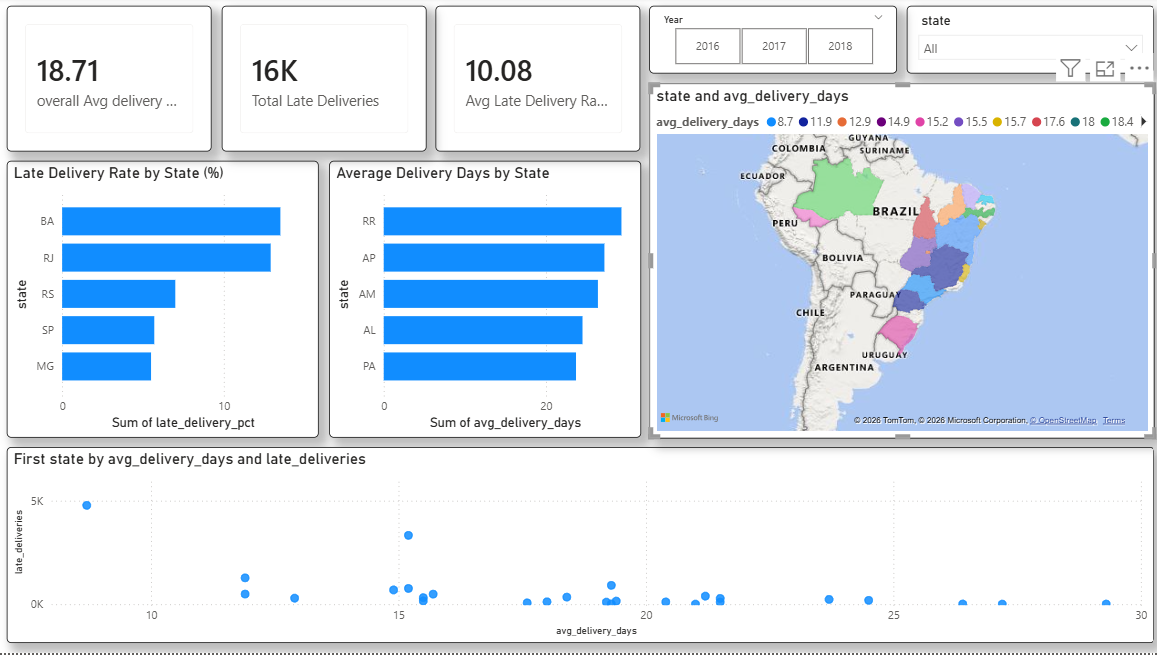

The page's visual inventory and layout, read from the dashboard file:
{"tool":"powerbi","page":{"name":"Page 4","canvas":[1280,720],"ordinal":3},"visuals":[{"type":"clusteredBarChart","title":"Late Delivery Rate by State (%)","fields":{"Category":["delivery_final.state"],"Y":["Sum(delivery_final.late_delivery_pct)"]},"box":[10,180,342,304],"z":0},{"type":"clusteredBarChart","title":"Average Delivery Days by State","fields":{"Category":["delivery_final.state"],"Y":["Sum(delivery_final.avg_delivery_days)"]},"box":[363,180,342,304],"z":1000},{"type":"filledMap","fields":{"Category":["delivery_final.state"],"Series":["delivery_final.avg_delivery_days"]},"box":[715,94,555.7,390],"z":2000},{"type":"cardVisual","fields":{"Data":["Avg(delivery_final.avg_delivery_days)"]},"box":[10,10,225,160],"z":3000},{"type":"cardVisual","fields":{"Data":["Avg(delivery_final.late_delivery_pct)"]},"box":[480,10,225,160],"z":4000},{"type":"cardVisual","fields":{"Data":["Sum(delivery_final.late_deliveries)"]},"box":[245,10,225,160],"z":5000},{"type":"scatterChart","fields":{"X":["delivery_final.avg_delivery_days"],"Y":["delivery_final.late_deliveries"]},"box":[10,494,1260,215.4],"z":6000},{"type":"slicer","fields":{"Values":["delivery_final.state"]},"box":[998,10,272,74.1],"z":7000},{"type":"slicer","fields":{"Values":["master_orders.order_delivered_carrier_date.Variation.Date Hierarchy.Year"]},"box":[715,10,272,74.1],"z":7001}]}

Visuals, with their boxes in screenshot pixels (x1, y1, x2, y2), scaled from the page's 1280x720 canvas onto the 1157x656 screenshot:
"Late Delivery Rate by State (%)" clusteredBarChart: [left=9, top=164, right=318, bottom=441]
"Average Delivery Days by State" clusteredBarChart: [left=328, top=164, right=637, bottom=441]
filledMap - delivery_final.state x delivery_final.avg_delivery_days: [left=646, top=86, right=1149, bottom=441]
cardVisual - Avg(delivery_final.avg_delivery_days): [left=9, top=9, right=212, bottom=155]
cardVisual - Avg(delivery_final.late_delivery_pct): [left=434, top=9, right=637, bottom=155]
cardVisual - Sum(delivery_final.late_deliveries): [left=221, top=9, right=425, bottom=155]
scatterChart - delivery_final.avg_delivery_days x delivery_final.late_deliveries: [left=9, top=450, right=1148, bottom=646]
slicer - delivery_final.state: [left=902, top=9, right=1148, bottom=77]
slicer - master_orders.order_delivered_carrier_date.Variation.Date Hierarchy.Year: [left=646, top=9, right=892, bottom=77]
